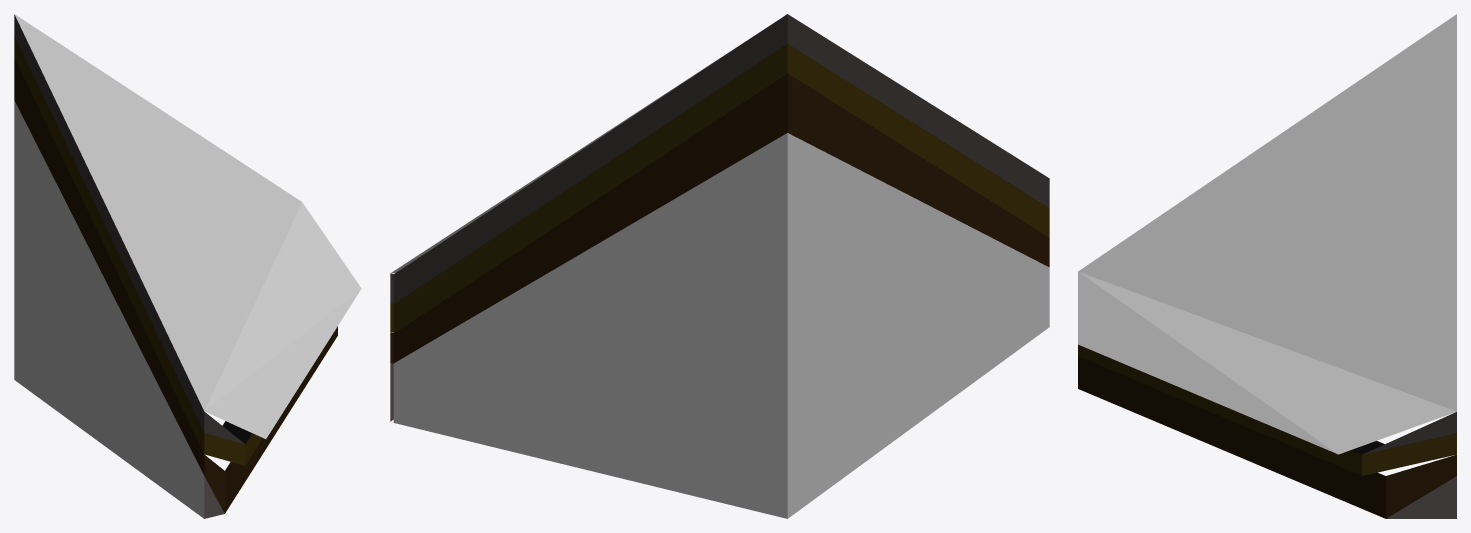
Rendered from model_loc_1638_s.obj.
3 views of the same model, side by side, from view 1: azimuth 30°, elevation 25°; view 2: azimuth 150°, elevation 25°; view 3: azimuth 270°, elevation 25° (orthographic). The views are drawn at different scales.
Visible parts, largest first — view 1: 630; view 2: 630; view 3: 630.
Part boxes in pixels (box(x1,y1,x2,y2)): 630: box(14, 14, 361, 518); 630: box(390, 14, 1049, 518); 630: box(1078, 14, 1456, 518).
Size of the model in its own units: 112 by 136 by 128.
